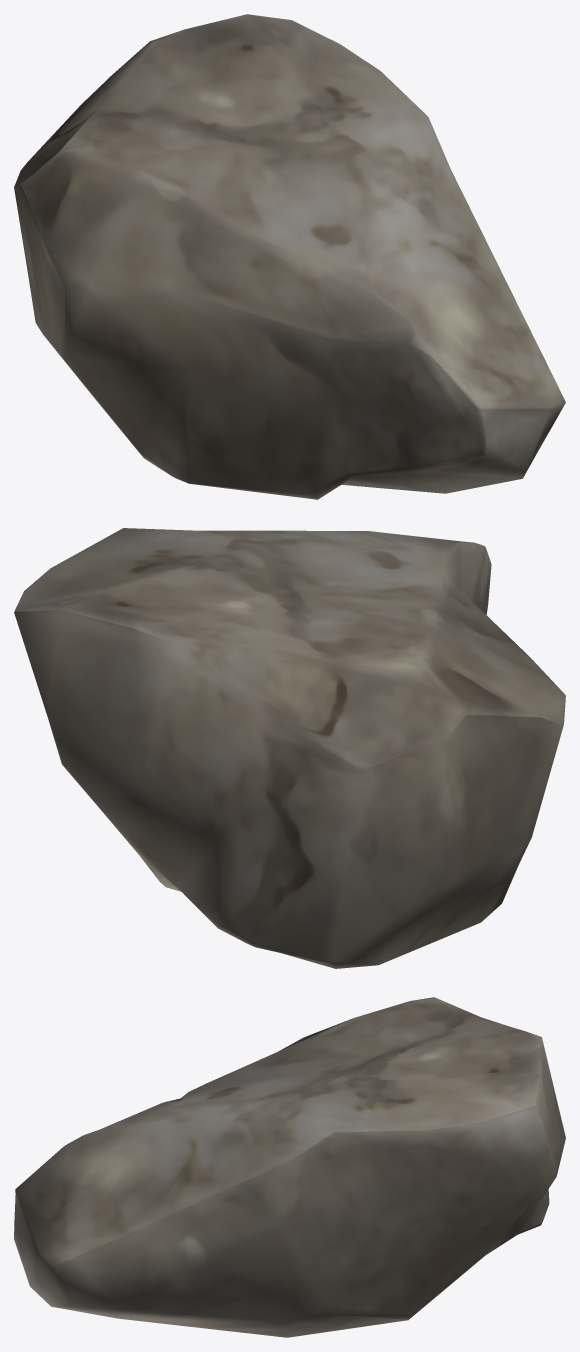
File: rock-4.glb
3 renders of one model, top to bottom at view 1: azimuth 30°, elevation 25°; view 2: azimuth 150°, elevation 25°; view 3: azimuth 270°, elevation 25°, orthographic. The views are drawn at different scales.
Parts seen in each view (by area): view 1: rock_4_Cube.023; view 2: rock_4_Cube.023; view 3: rock_4_Cube.023.
Boxes of the visible parts, x1,y1,x2,y2 form: rock_4_Cube.023: (14, 14, 565, 499); rock_4_Cube.023: (14, 528, 565, 968); rock_4_Cube.023: (14, 997, 565, 1337).
Bounding box in the file's own units: 1.72 × 1.36 × 2.49.
Materials: 1 (1 with a texture image).
